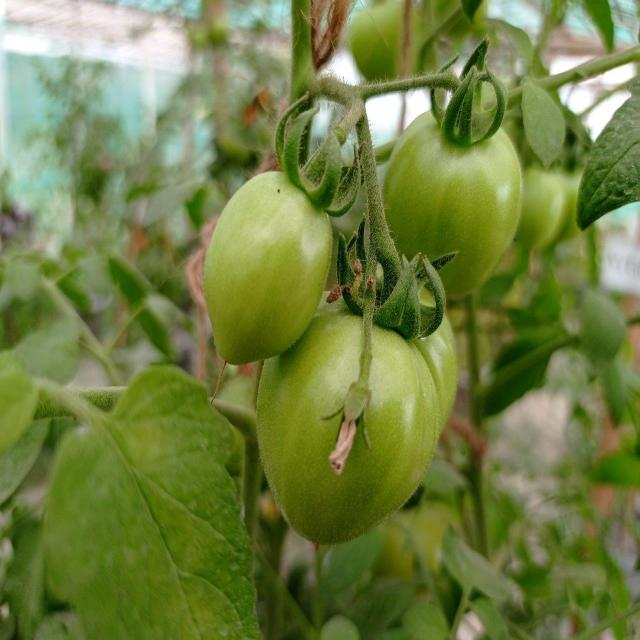Unripe: (256, 309, 439, 546), (386, 97, 521, 303), (202, 165, 334, 365)
